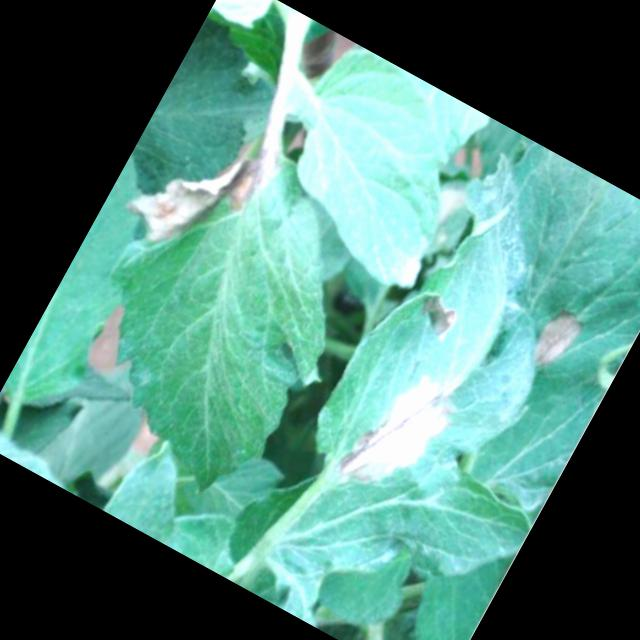Early_blight: (109, 65, 305, 283), (325, 342, 472, 511), (525, 299, 586, 373), (407, 288, 465, 344)
